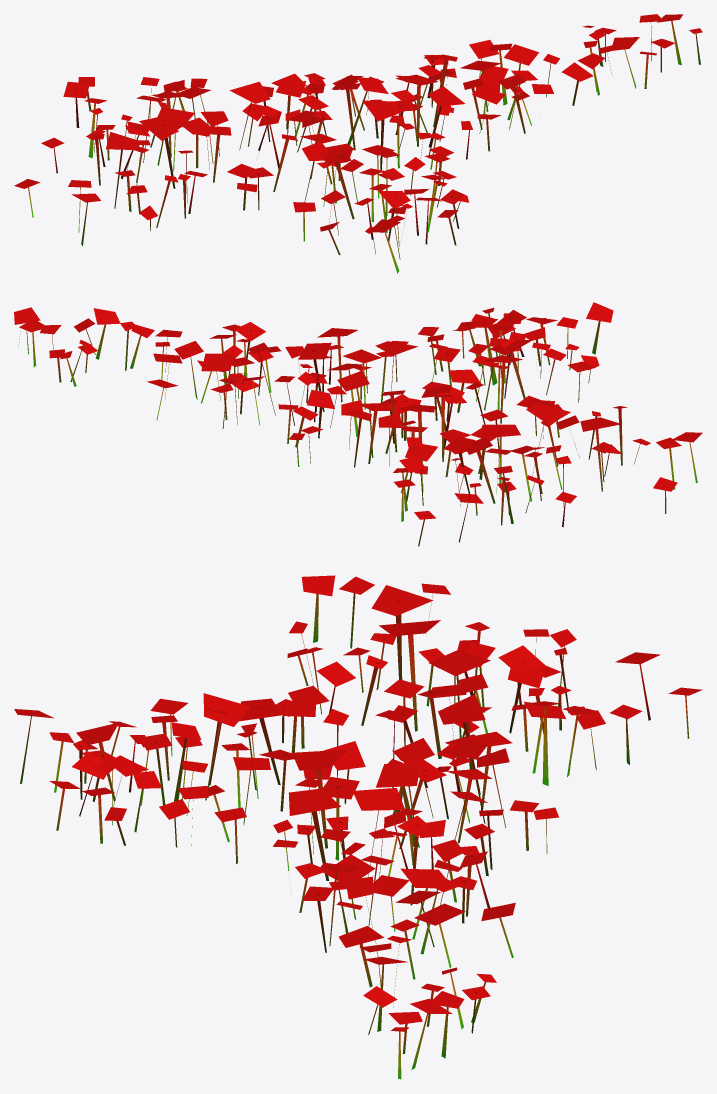
Rendered from Plant_B_03.FBX.
The picture shows the model from 3 angles, top to bottom: view 1: azimuth 30°, elevation 25°; view 2: azimuth 150°, elevation 25°; view 3: azimuth 270°, elevation 25°; orthographic projection. The views are drawn at different scales.
Visible parts, largest first — view 1: Geometry_Plant_B_03_LOD00; view 2: Geometry_Plant_B_03_LOD00; view 3: Geometry_Plant_B_03_LOD00.
Part boxes in pixels (x1,y1,x2,y2): Geometry_Plant_B_03_LOD00: (14, 14, 702, 273); Geometry_Plant_B_03_LOD00: (14, 302, 702, 546); Geometry_Plant_B_03_LOD00: (14, 575, 702, 1079).
Size of what is drawn, in the model's own units: 143 by 14.68 by 91.88.
